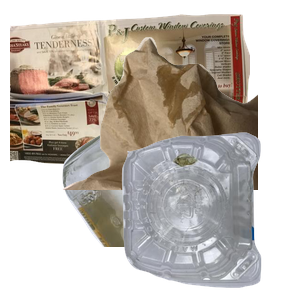glass: (60, 120, 300, 300)
paper: (10, 11, 250, 180)
plastic: (119, 130, 300, 300)
trash: (60, 35, 300, 215)
